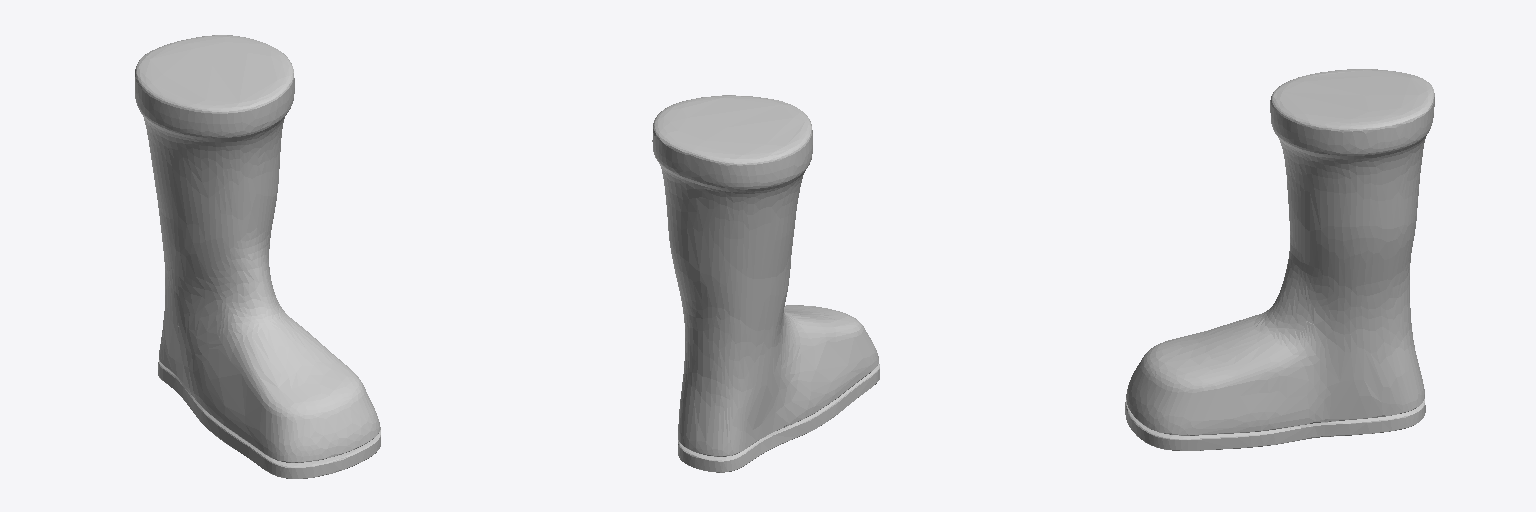
File: Thug01_boot_left.OBJ
3 renders of one model, left to right at view 1: azimuth 30°, elevation 25°; view 2: azimuth 150°, elevation 25°; view 3: azimuth 270°, elevation 25°, orthographic.
Visible parts, largest first — view 1: Group57013; view 2: Group57013; view 3: Group57013.
Boxes of the visible parts, <box> form: Group57013: <box>135,35,380,478</box>; Group57013: <box>652,95,879,472</box>; Group57013: <box>1125,69,1434,450</box>.
Bounding box in the file's own units: 1.85 × 4.05 × 3.5.